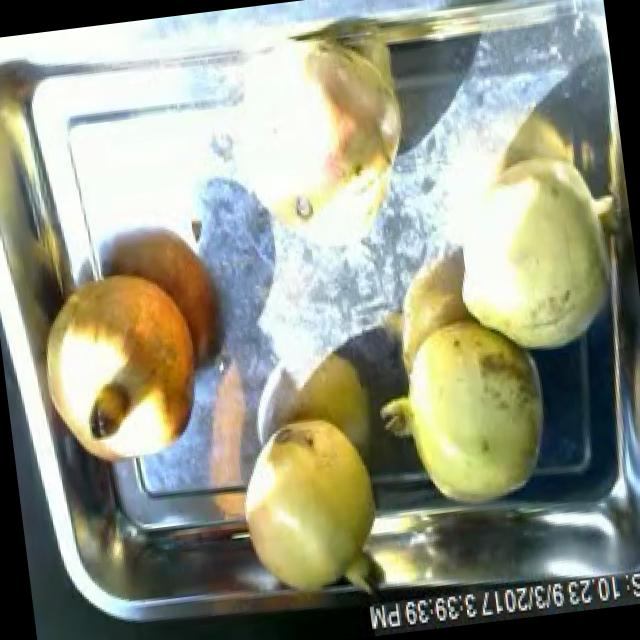fruit: (194, 7, 433, 267), (430, 125, 638, 373), (357, 298, 566, 522), (26, 251, 216, 478), (225, 396, 396, 614)
